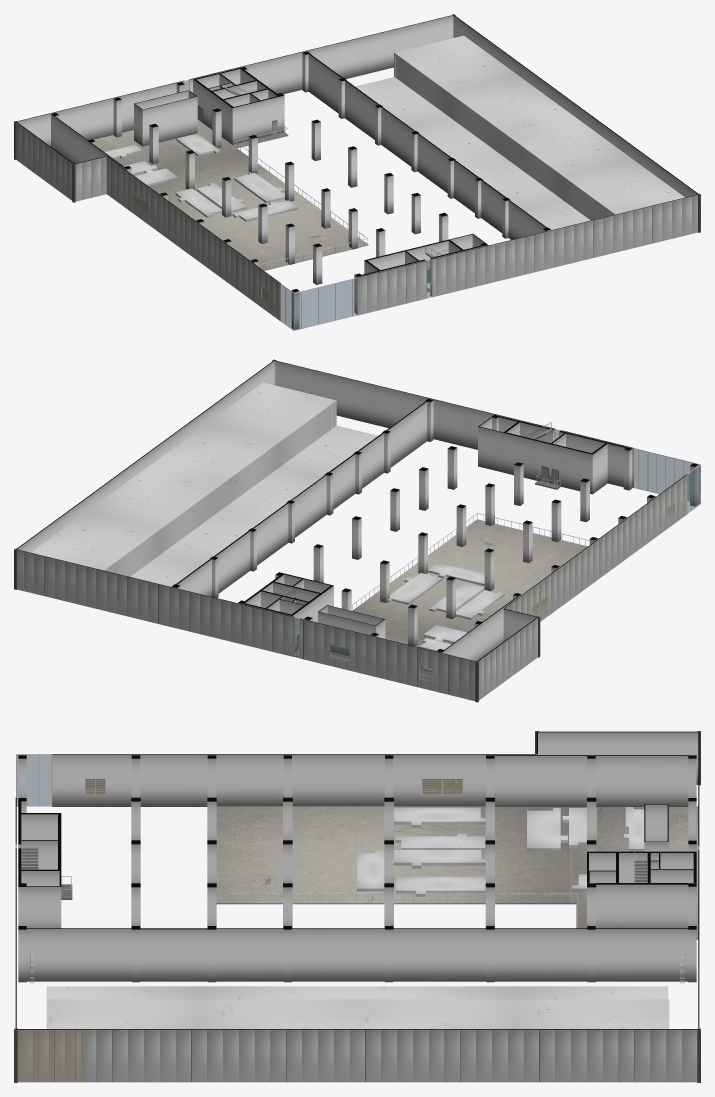
The picture shows the model from 3 angles, top to bottom: view 1: azimuth 30°, elevation 25°; view 2: azimuth 150°, elevation 25°; view 3: azimuth 270°, elevation 25°; orthographic projection. The views are drawn at different scales.
Visible parts, largest first — view 1: W&FF-7F-2, Box312, Line998, Rectangle1575, Rectangle1764, Line1009; view 2: W&FF-7F-2, Box312, Line998, Rectangle1575, Rectangle1764; view 3: W&FF-7F-2, Line998, Box312, Rectangle1575, Rectangle1764, 7-2환풍구, Line1009, Railing079, Rectangle1781.
Part boxes in pixels (x1,y1,x2,y2): W&FF-7F-2: [16, 14, 698, 329]; Box312: [394, 35, 684, 214]; Line998: [93, 120, 368, 270]; Rectangle1575: [355, 77, 590, 229]; Rectangle1764: [69, 79, 432, 330]; Line1009: [235, 126, 367, 269]; W&FF-7F-2: [16, 360, 698, 700]; Box312: [31, 382, 336, 570]; Line998: [295, 519, 587, 680]; Rectangle1575: [130, 425, 377, 586]; Rectangle1764: [294, 429, 700, 682]; W&FF-7F-2: [15, 731, 699, 1082]; Line998: [216, 806, 698, 939]; Box312: [47, 999, 669, 1028]; Rectangle1575: [46, 986, 668, 1028]; Rectangle1764: [15, 754, 699, 849]; 7-2환풍구: [85, 778, 463, 795]; Line1009: [217, 893, 577, 927]; Railing079: [21, 838, 647, 882]; Rectangle1781: [14, 731, 700, 1082].
Bounding box in the file's own units: 67.15 × 6.72 × 65.15.
15 materials, 12 textured.
